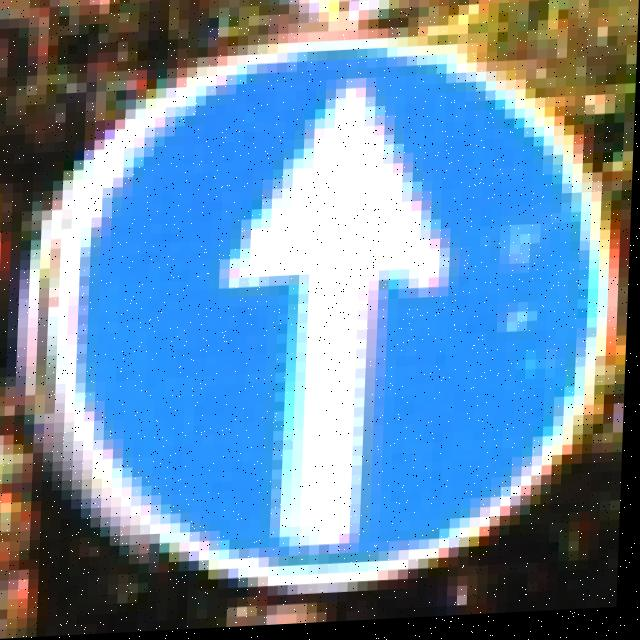compulsory_ahead: (46, 16, 616, 590)
